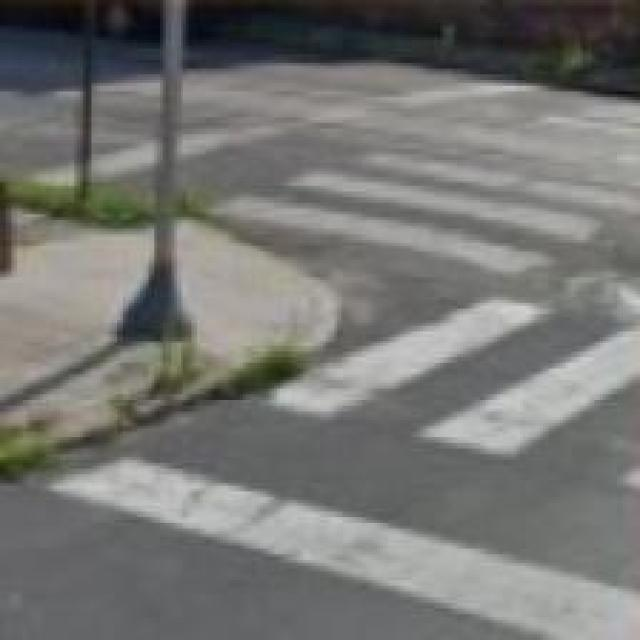walk-crossing: (235, 88, 640, 271), (271, 294, 640, 472)
